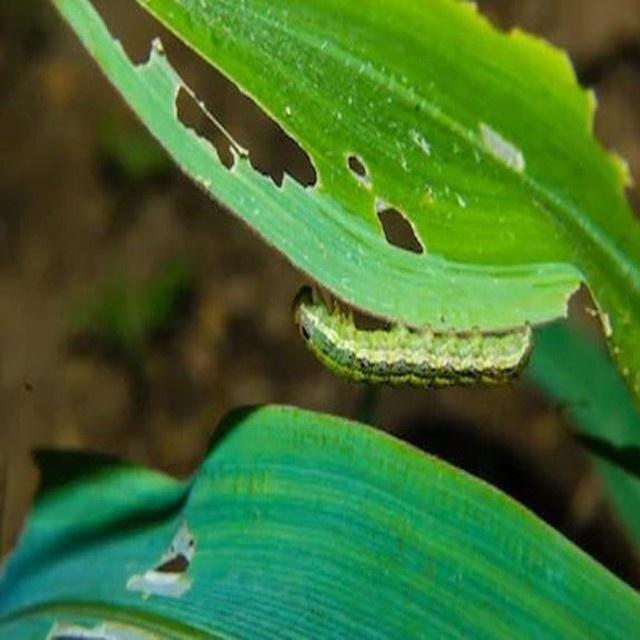gusano_cogollero: (288, 283, 542, 394)
